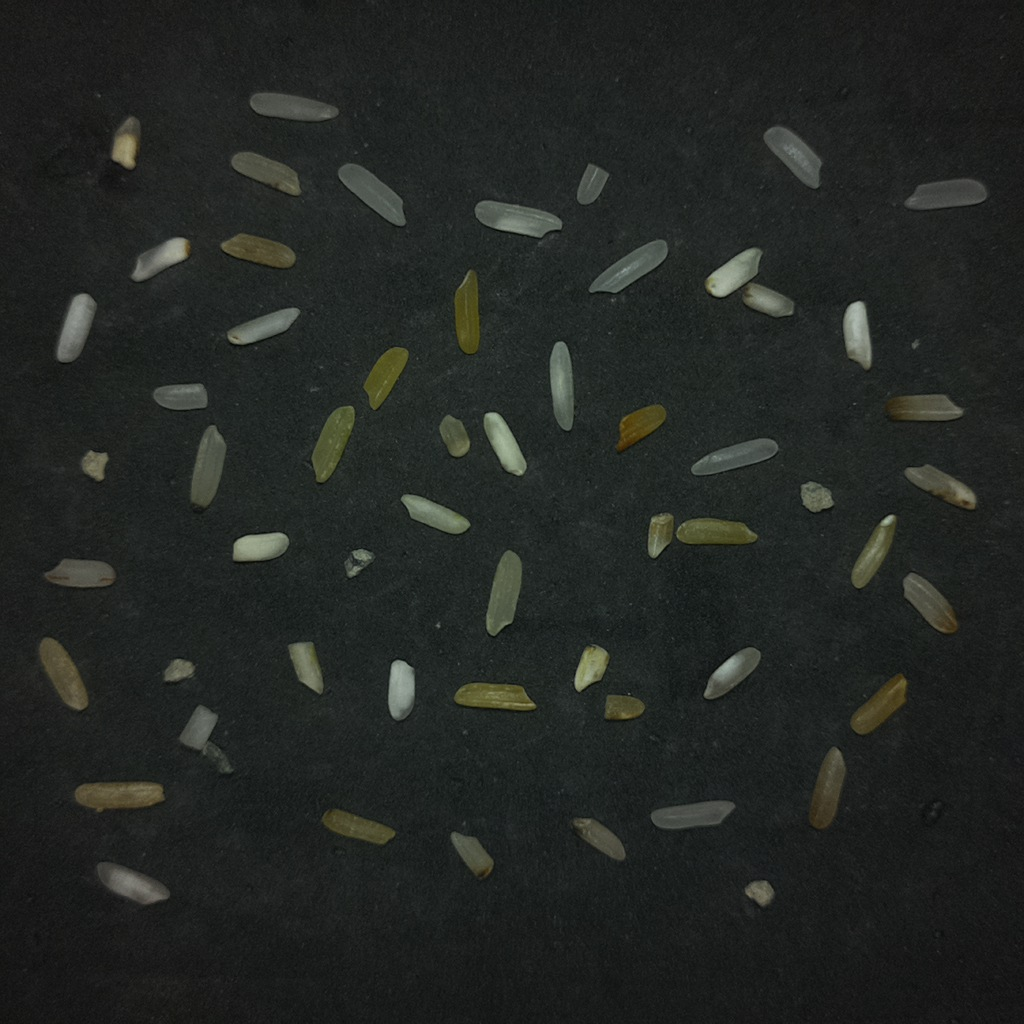broken: (454, 682, 535, 710), (179, 704, 218, 750), (152, 384, 207, 410), (576, 163, 608, 204), (439, 416, 469, 457)
chalky: (96, 862, 169, 904), (703, 647, 760, 699), (55, 293, 96, 363), (706, 247, 762, 297), (401, 494, 470, 534), (227, 307, 299, 345), (484, 411, 526, 475), (131, 238, 190, 281), (549, 341, 573, 430), (843, 300, 871, 369), (288, 641, 323, 694), (741, 283, 794, 317), (233, 532, 288, 562), (110, 116, 140, 170), (389, 660, 413, 719)
damaged: (850, 673, 907, 734), (851, 515, 896, 588), (903, 573, 957, 633), (904, 464, 976, 509), (809, 747, 845, 829), (191, 425, 225, 510), (571, 817, 625, 861), (885, 394, 963, 421), (450, 831, 493, 879), (574, 644, 609, 691), (647, 513, 675, 559), (604, 695, 645, 720), (344, 549, 374, 577)
discolored: (311, 406, 354, 482), (363, 347, 408, 409), (322, 809, 395, 845), (220, 233, 295, 268), (74, 782, 164, 811), (616, 404, 666, 452), (676, 518, 757, 544), (454, 269, 479, 353)
foreign: (201, 740, 234, 774), (801, 481, 831, 511), (80, 450, 108, 481), (744, 880, 774, 907), (163, 658, 195, 683)
red: (38, 638, 88, 710), (230, 151, 300, 195), (44, 558, 115, 588)
whole: (338, 163, 405, 226), (590, 239, 666, 292), (764, 126, 820, 187), (486, 551, 522, 636), (475, 200, 560, 236), (691, 438, 776, 473), (904, 179, 987, 210), (250, 92, 338, 121), (650, 801, 734, 829)
